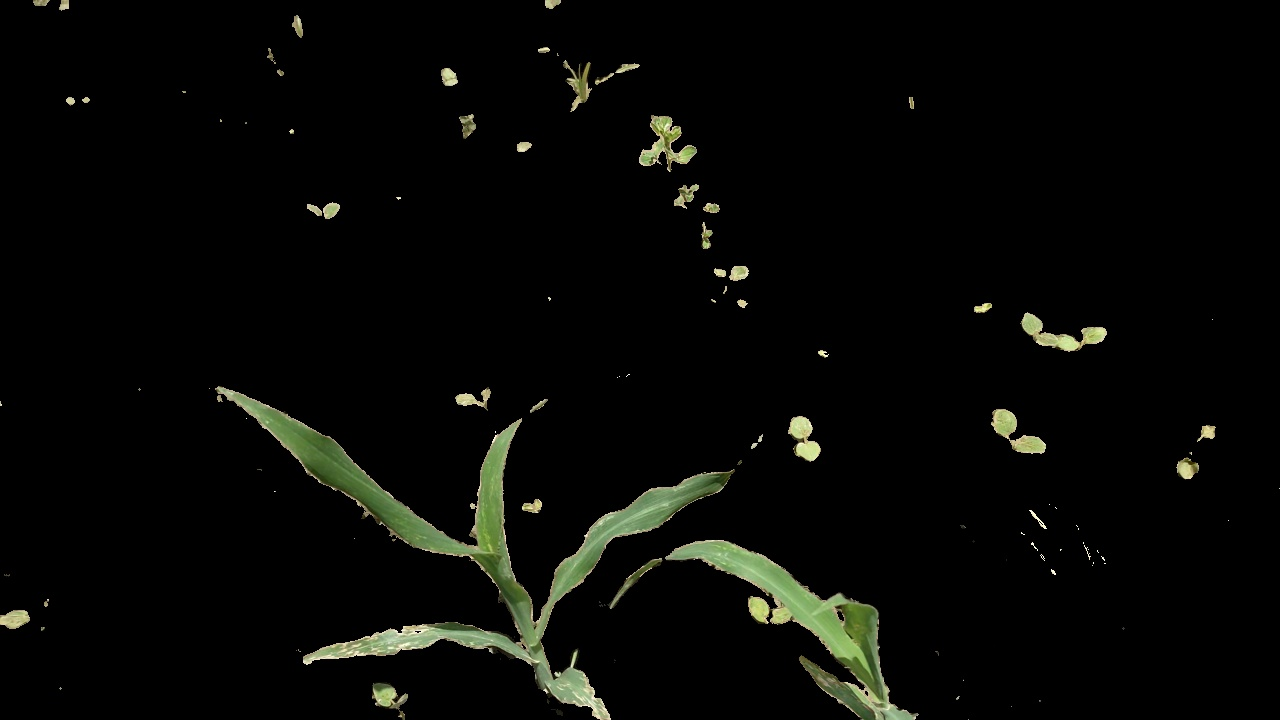crop: (208, 375, 682, 720), (626, 539, 926, 720)
weed: (983, 397, 1066, 459), (1018, 301, 1108, 352), (637, 115, 692, 178), (781, 415, 836, 474), (1171, 414, 1215, 487), (741, 591, 789, 632), (371, 678, 415, 720), (301, 198, 351, 234), (703, 261, 759, 285), (454, 389, 501, 416), (671, 187, 708, 207)
